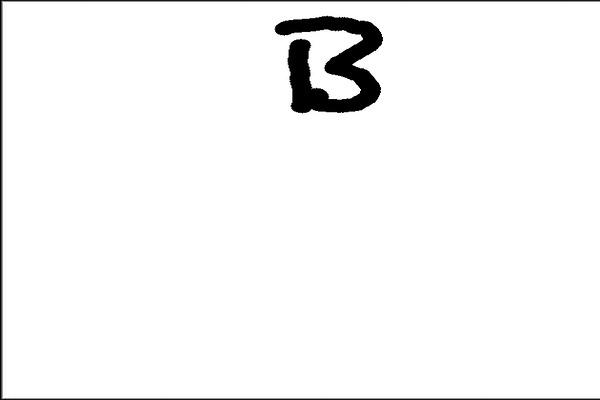B: (267, 9, 391, 120)
